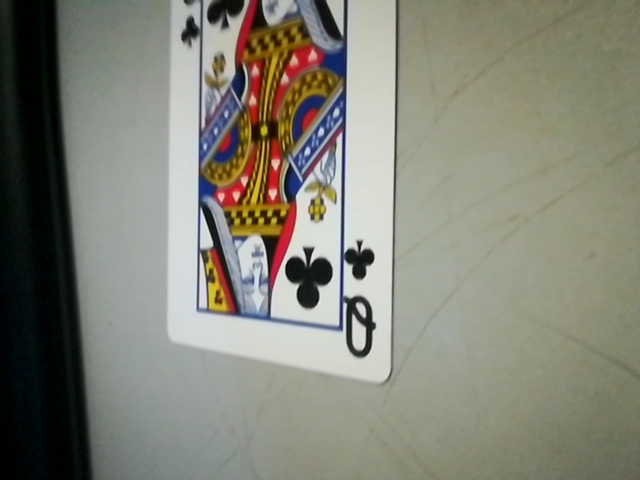mh q: (334, 233, 388, 372)
